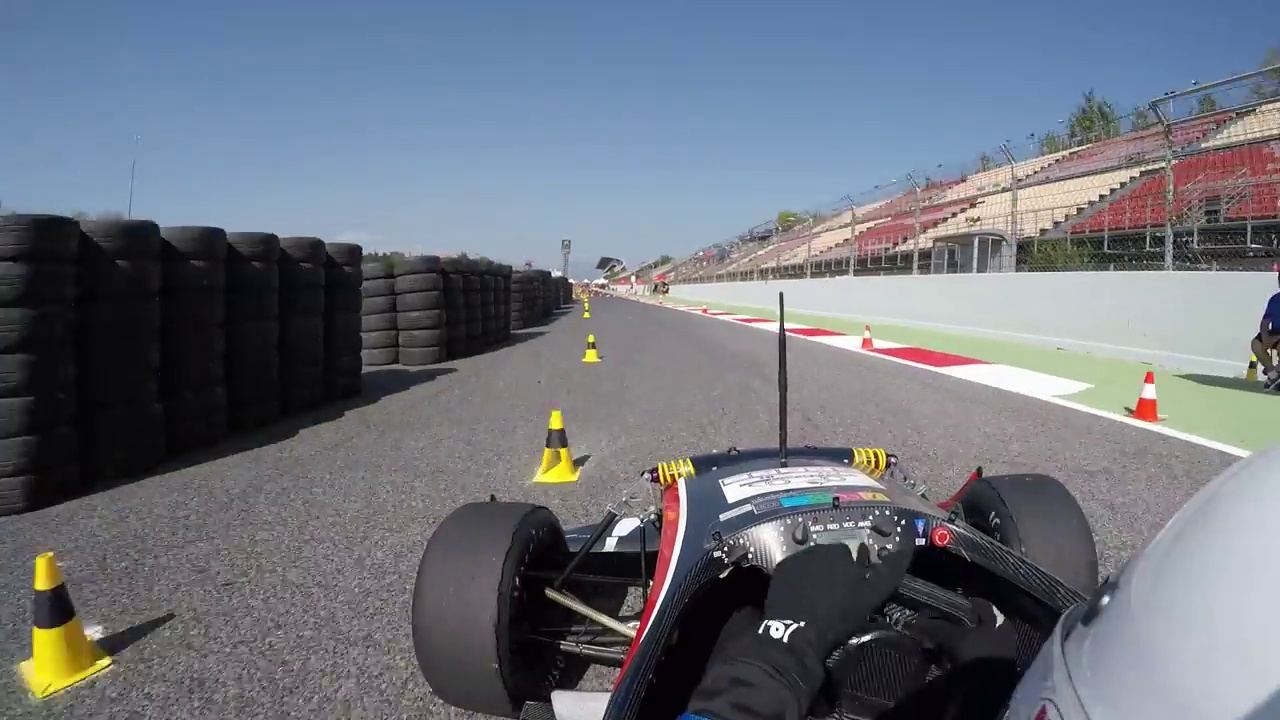Cone: (17, 548, 109, 697), (532, 408, 585, 482), (1127, 371, 1166, 422), (580, 332, 603, 364)
